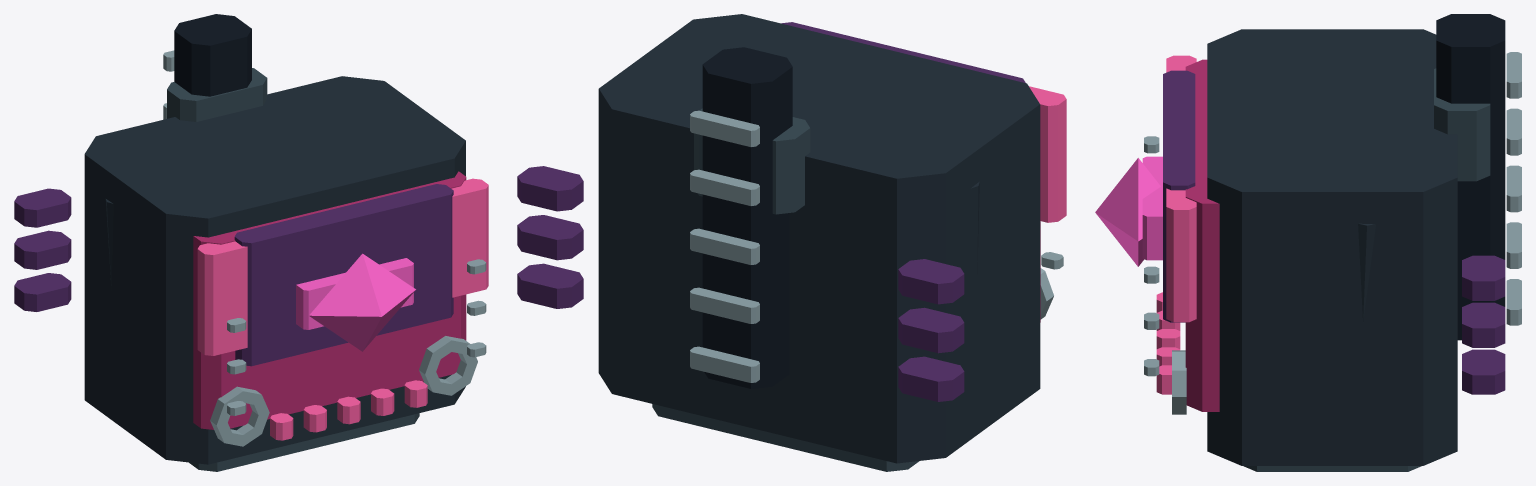
Rendered from enemy_striker_body.obj.
3 views of the same model, side by side, from view 1: azimuth 30°, elevation 25°; view 2: azimuth 150°, elevation 25°; view 3: azimuth 270°, elevation 25° (orthographic). The views are drawn at different scales.
Size of the model in its own units: 1.12 by 0.975 by 0.9885.
